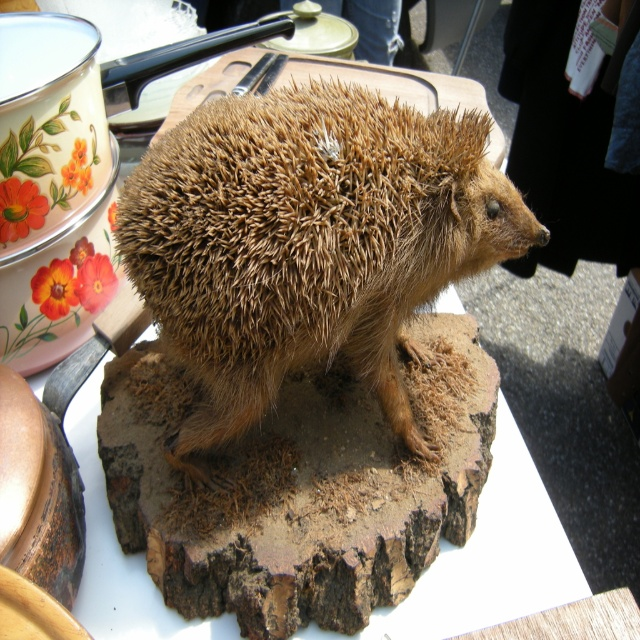Hedgehog: (109, 68, 552, 500)
